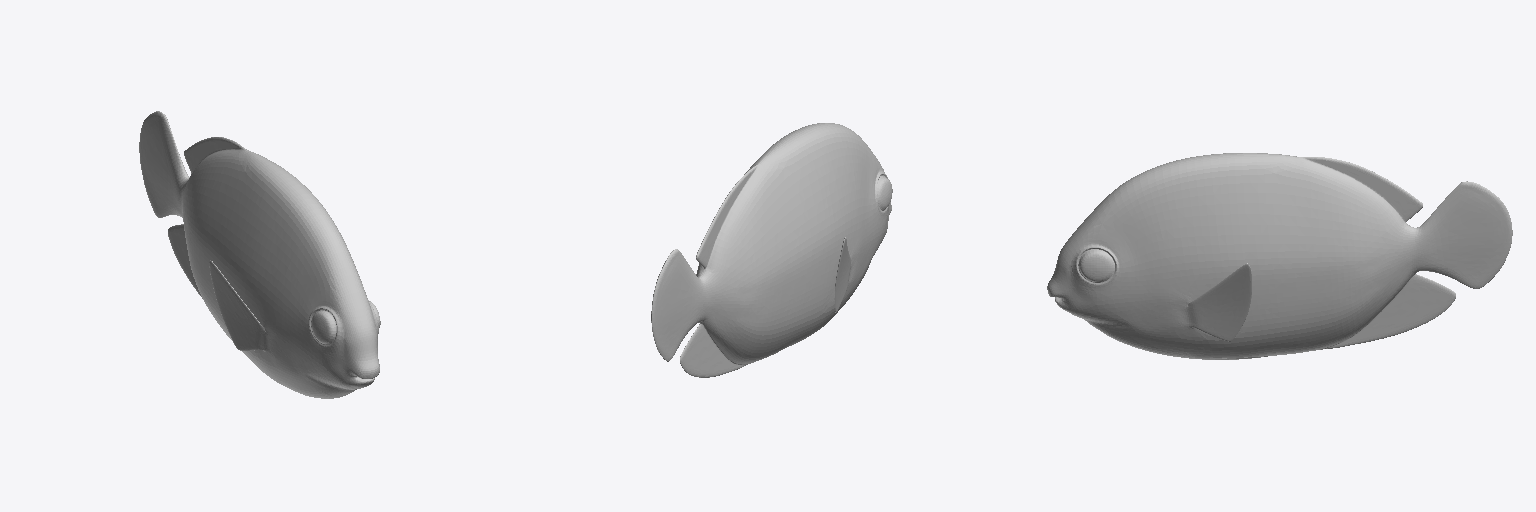
Rendered from fishtoeat1.obj.
The picture shows the model from 3 angles: view 1: azimuth 30°, elevation 25°; view 2: azimuth 150°, elevation 25°; view 3: azimuth 270°, elevation 25°; orthographic projection.
Parts seen in each view (by area): view 1: fishtoeat1; view 2: fishtoeat1; view 3: fishtoeat1.
Part boxes in pixels (bbox=[...]): fishtoeat1: bbox=[139, 111, 380, 398]; fishtoeat1: bbox=[651, 123, 892, 377]; fishtoeat1: bbox=[1047, 153, 1512, 359].
Size of the model in its own units: 0.369 by 0.5801 by 1.2.